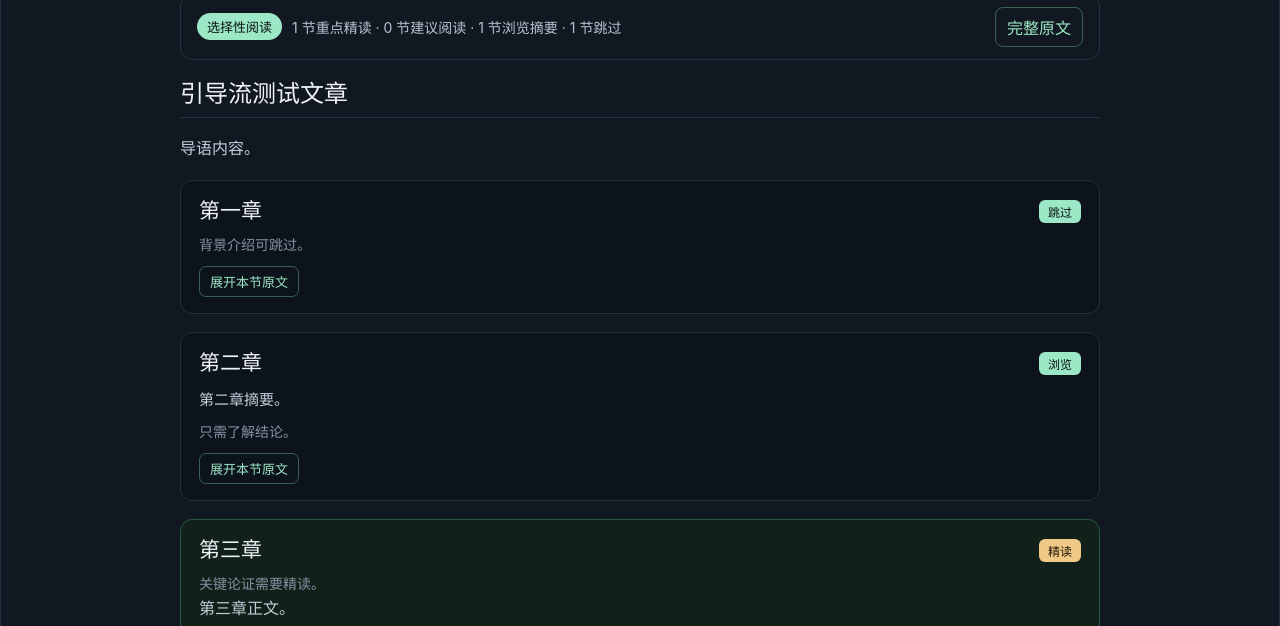
Scenario: 内容详情引导阅读流 › 折叠章节可在原位置展开，且保持本次会话的展开状态
(page scrolled)
Expected: the element with class "guided-section" does not show "第一章正文"
Click the button with class "guided-expand" below "背景介绍可跳过。".
click(249, 282)  # box x1=199 y1=266 x2=299 y2=297
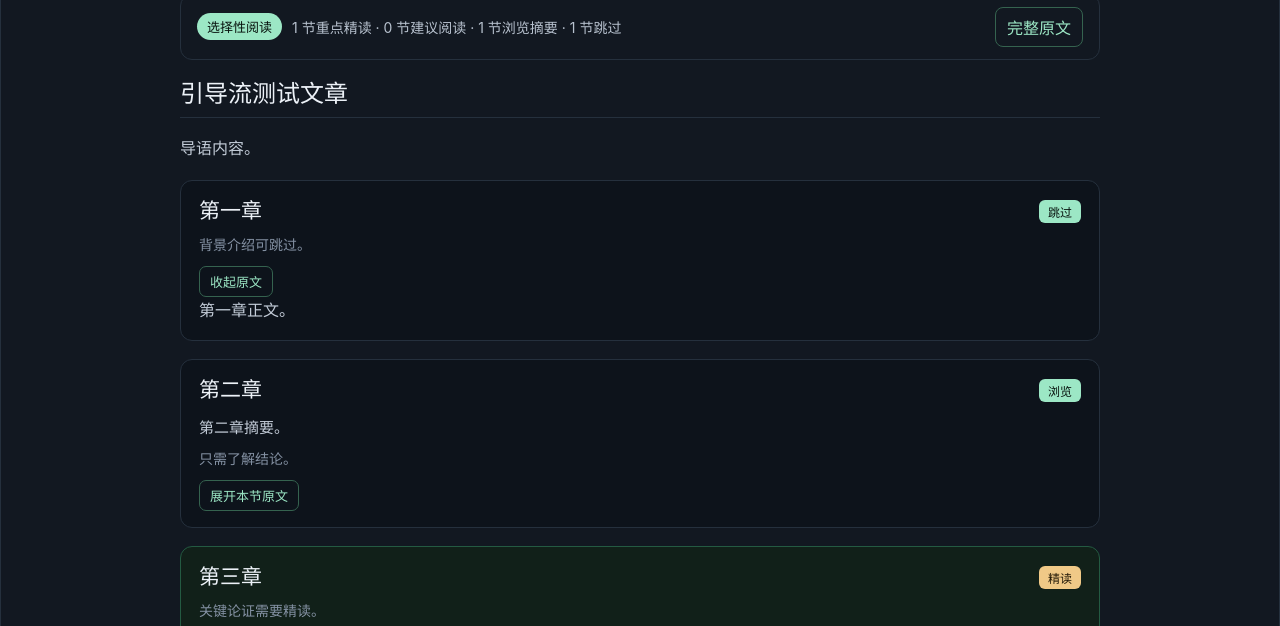
Expected: the element with class "guided-section" shows "第一章正文", x1=199 y1=300 x2=295 y2=320
Expected: the button with class "guided-expand" reads "收起原文", x1=199 y1=266 x2=273 y2=297
# 切到完整原文再切回，手动展开状态仍然保留。
Click the button "完整原文".
click(1039, 27)  # box x1=995 y1=7 x2=1083 y2=47
(page scrolled)
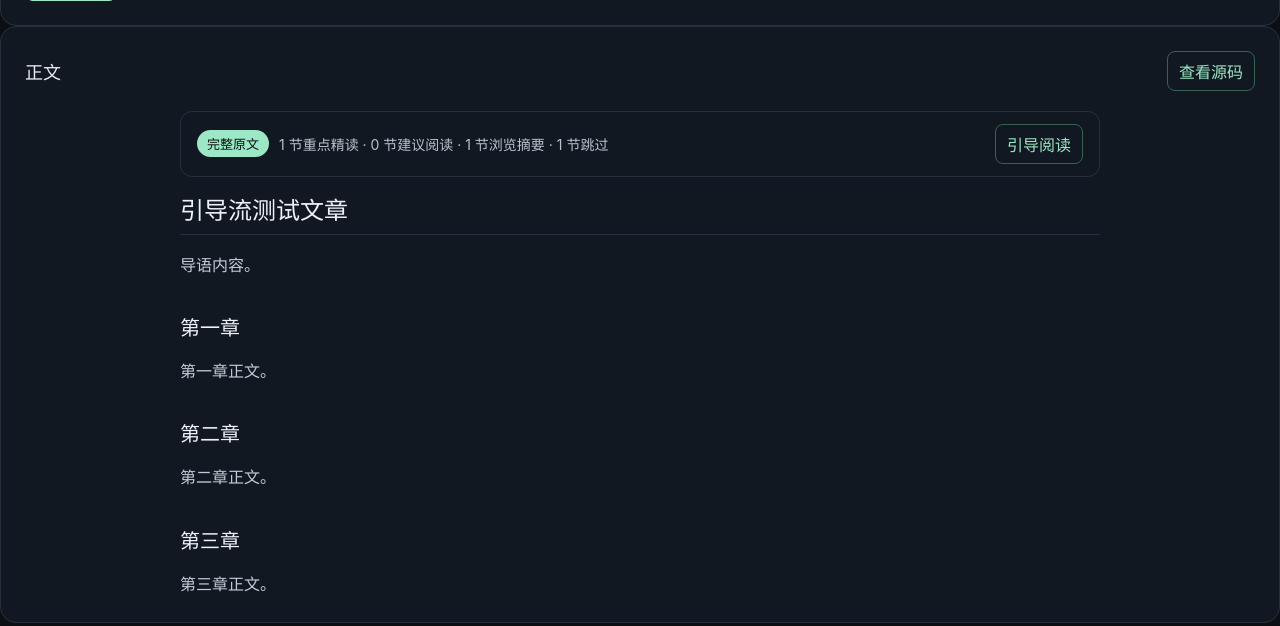
Expected: the element with class "markdown-body" shows "第三章正文", x1=180 y1=574 x2=276 y2=594
Click the button "引导阅读".
click(1039, 144)  # box x1=995 y1=124 x2=1083 y2=164
(page scrolled)
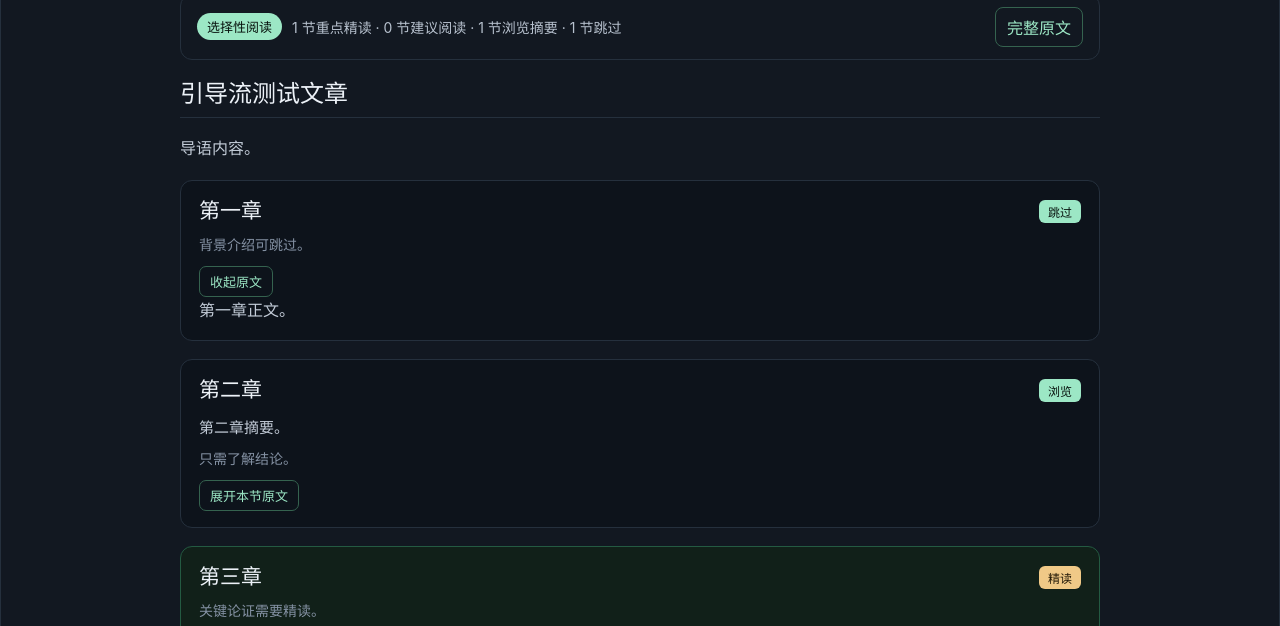
Expected: the element with class "guided-section" shows "第一章正文", x1=199 y1=300 x2=295 y2=320
